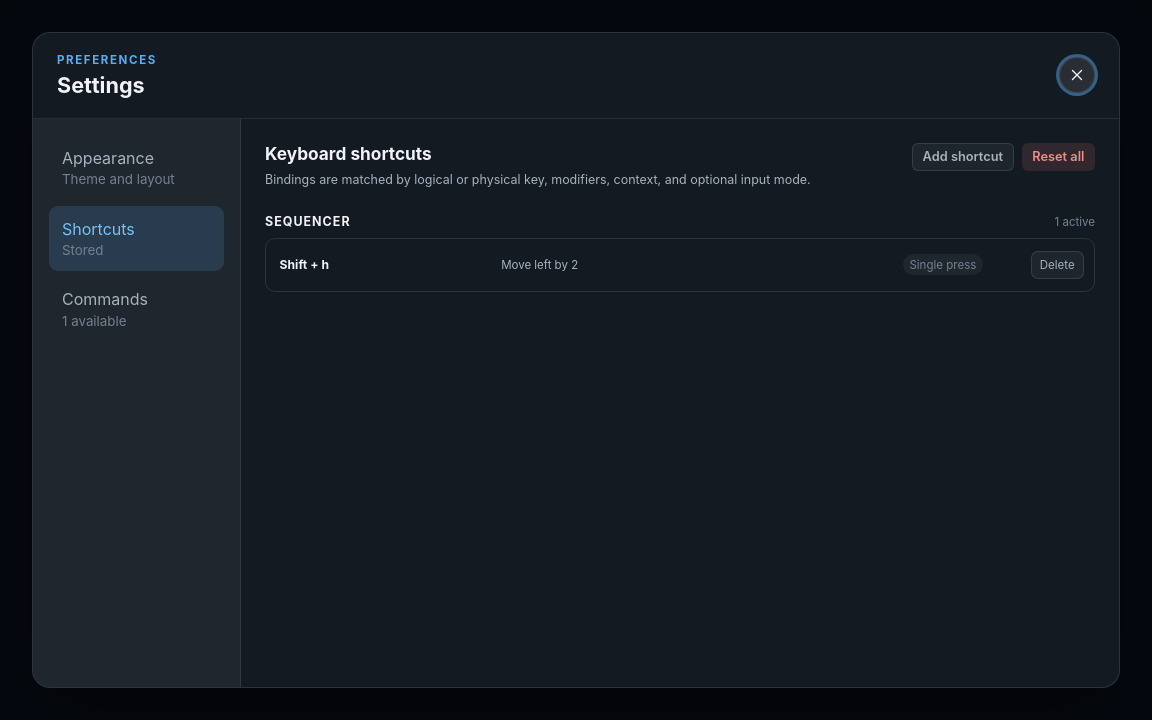
Scenario: SettingsOverlay › switches to and renders the command catalog surface
Step 1. Click the button "Commands 1 available" → coordinates (136, 309), box [49,276,224,342]
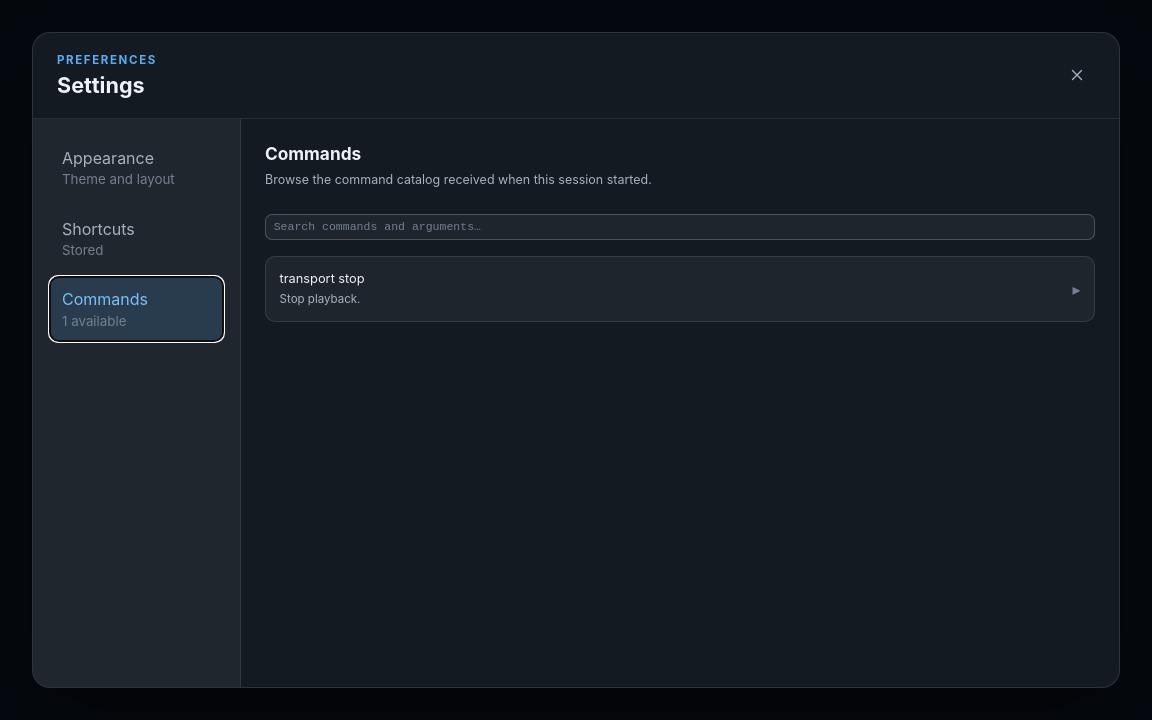
Now the search field labelled "Search commands" is shown, box [266,215,1094,239]
Now the text "Stop playback." is shown, box [280,291,365,308]
